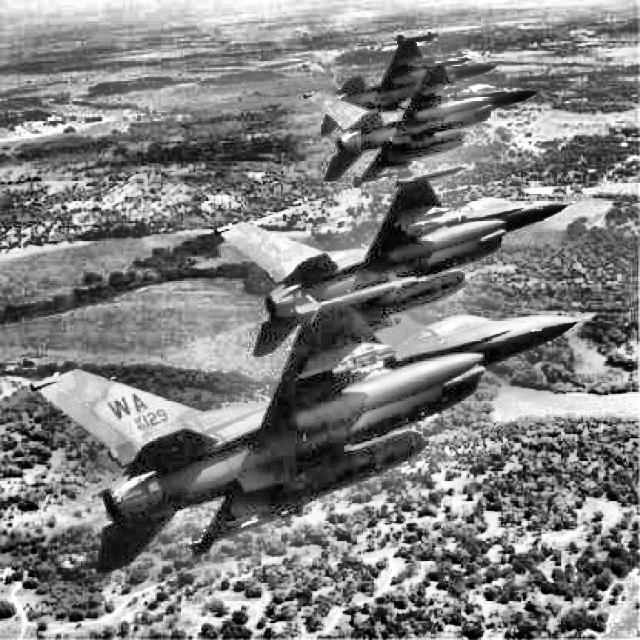F16: (29, 276, 598, 573), (215, 165, 579, 358), (302, 57, 540, 188), (302, 32, 496, 136)
